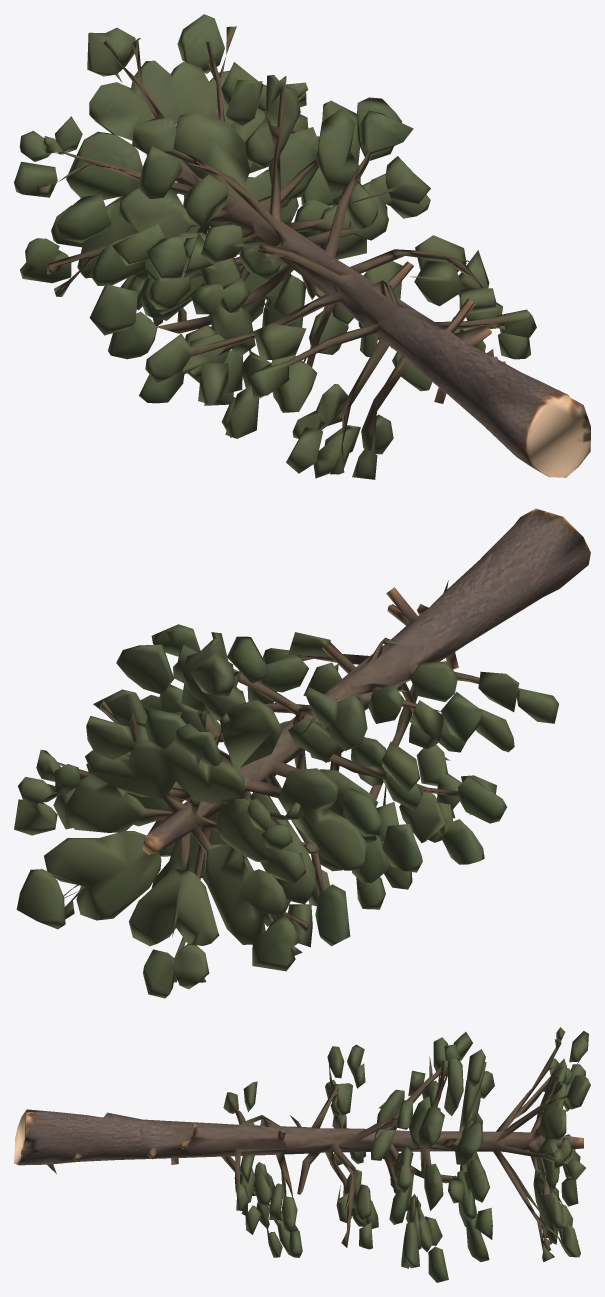
The model's file is prop_felled_tree.glb.
3 views of the same model, one above another, from view 1: azimuth 30°, elevation 25°; view 2: azimuth 150°, elevation 25°; view 3: azimuth 270°, elevation 25° (orthographic). The views are drawn at different scales.
Parts seen in each view (by area): view 1: tripo_node_003a851c-f55c-4b2e-96fd-3a01561dc619; view 2: tripo_node_003a851c-f55c-4b2e-96fd-3a01561dc619; view 3: tripo_node_003a851c-f55c-4b2e-96fd-3a01561dc619.
Part boxes in pixels (left/top/right/bottom): tripo_node_003a851c-f55c-4b2e-96fd-3a01561dc619: left=14, top=14, right=590, bottom=479; tripo_node_003a851c-f55c-4b2e-96fd-3a01561dc619: left=14, top=508, right=590, bottom=998; tripo_node_003a851c-f55c-4b2e-96fd-3a01561dc619: left=14, top=1027, right=590, bottom=1282.
Bounding box in the file's own units: 0.5041 × 0.4048 × 0.9988.
1 material, 1 textured.
